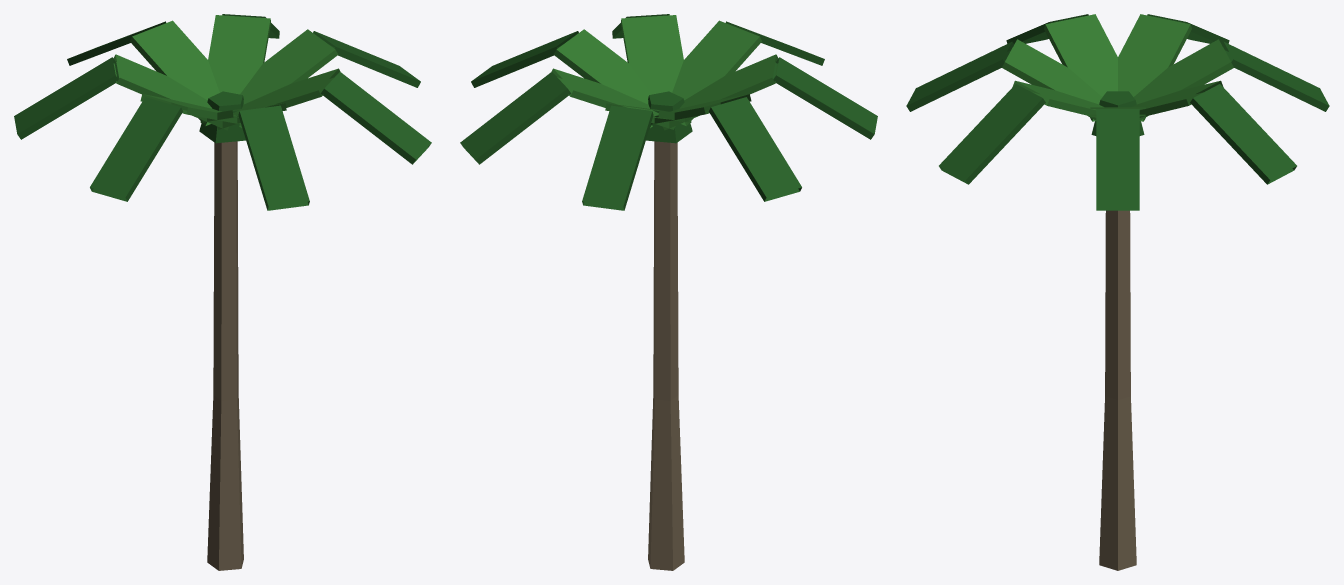
Rendered from palem.glb.
3 renders of one model, left to right at view 1: azimuth 30°, elevation 25°; view 2: azimuth 150°, elevation 25°; view 3: azimuth 270°, elevation 25°, orthographic.
Visible parts, largest first — view 1: potongan_palem; view 2: potongan_palem; view 3: potongan_palem.
Boxes of the visible parts, box(x1,y1,x2,y2) form: potongan_palem: box(14, 14, 431, 570); potongan_palem: box(460, 14, 877, 570); potongan_palem: box(906, 14, 1329, 570).
Bounding box in the file's own units: 6.68 × 8.95 × 6.85.
